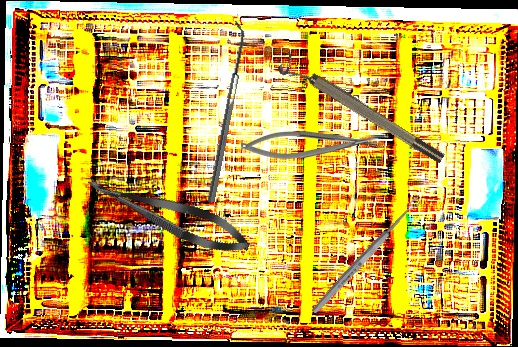Fixation Ring: (276, 50, 447, 173)
Micro Scissor: (81, 165, 256, 264)
Needle Holder: (241, 131, 378, 159)
Spatula Surgical: (200, 20, 250, 203)
Surgical Spoon: (309, 196, 423, 316)
